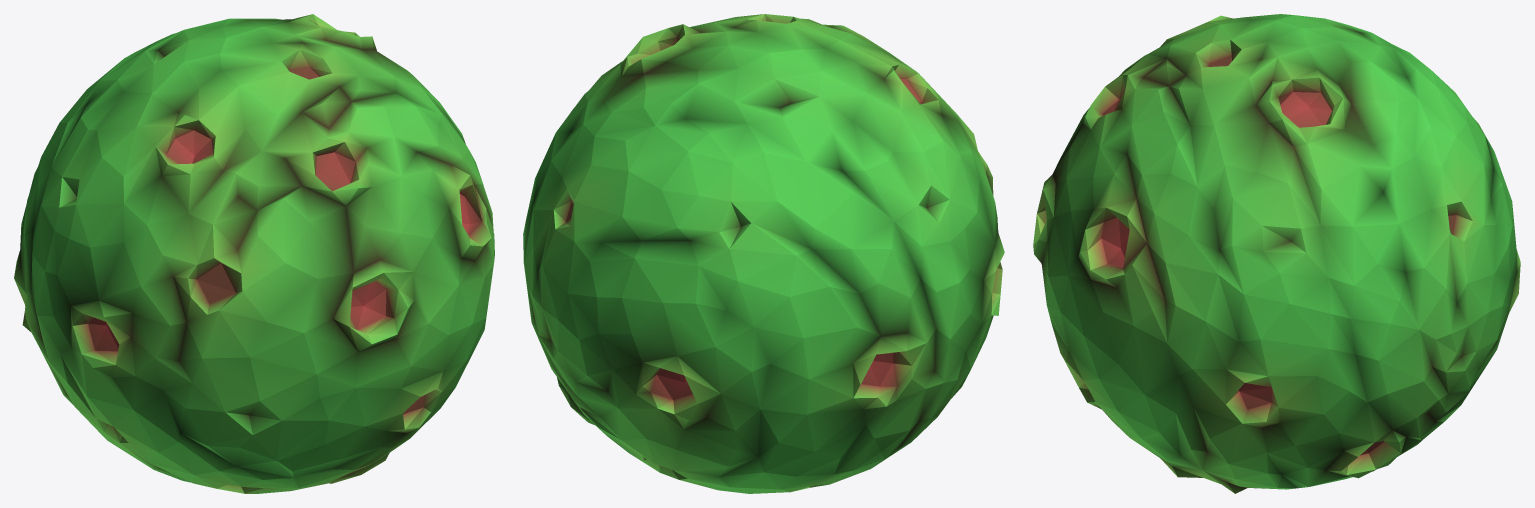
Rendered from moon32.fbx.
3 renders of one model, left to right at view 1: azimuth 30°, elevation 25°; view 2: azimuth 150°, elevation 25°; view 3: azimuth 270°, elevation 25°, orthographic.
Parts seen in each view (by area): view 1: attribblur1; view 2: attribblur1; view 3: attribblur1.
Boxes of the visible parts, <box> form: attribblur1: <box>14,14,494,493</box>; attribblur1: <box>523,14,1004,493</box>; attribblur1: <box>1033,14,1520,493</box>.
Size of the model in its own units: 0.9235 by 0.92 by 0.9425.
